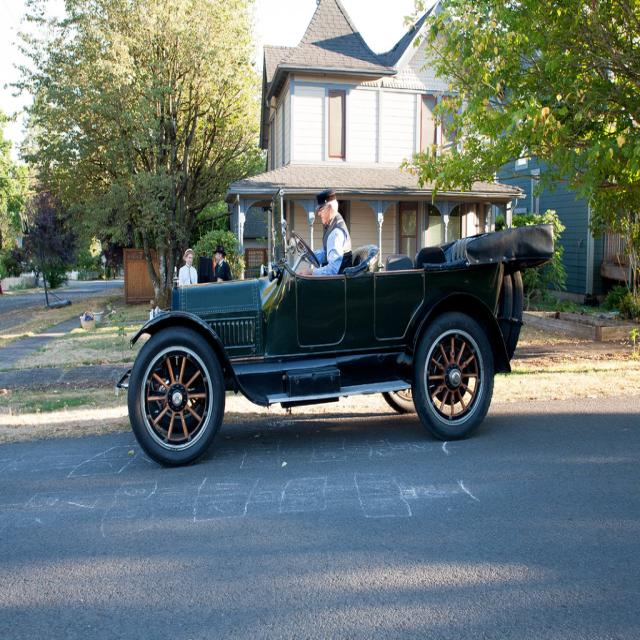Passenger Car: (126, 191, 561, 468)
